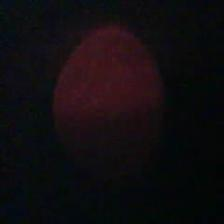fertile: (51, 25, 161, 171)
